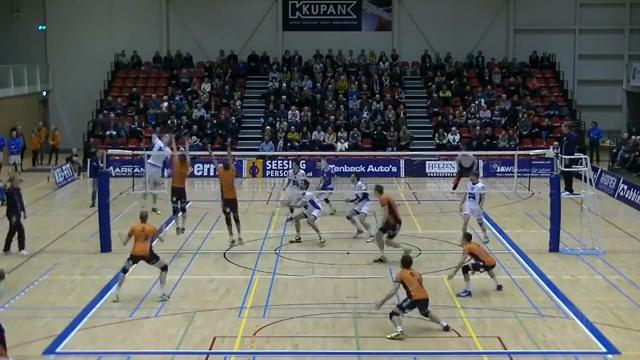Attack: (137, 127, 175, 218)
Block: (204, 140, 256, 253), (160, 127, 193, 238)
Player: (374, 255, 450, 339), (113, 210, 168, 301), (447, 232, 502, 296), (290, 179, 325, 246), (374, 185, 401, 262), (460, 172, 488, 243), (346, 173, 373, 241), (283, 160, 306, 220), (318, 158, 335, 214)
